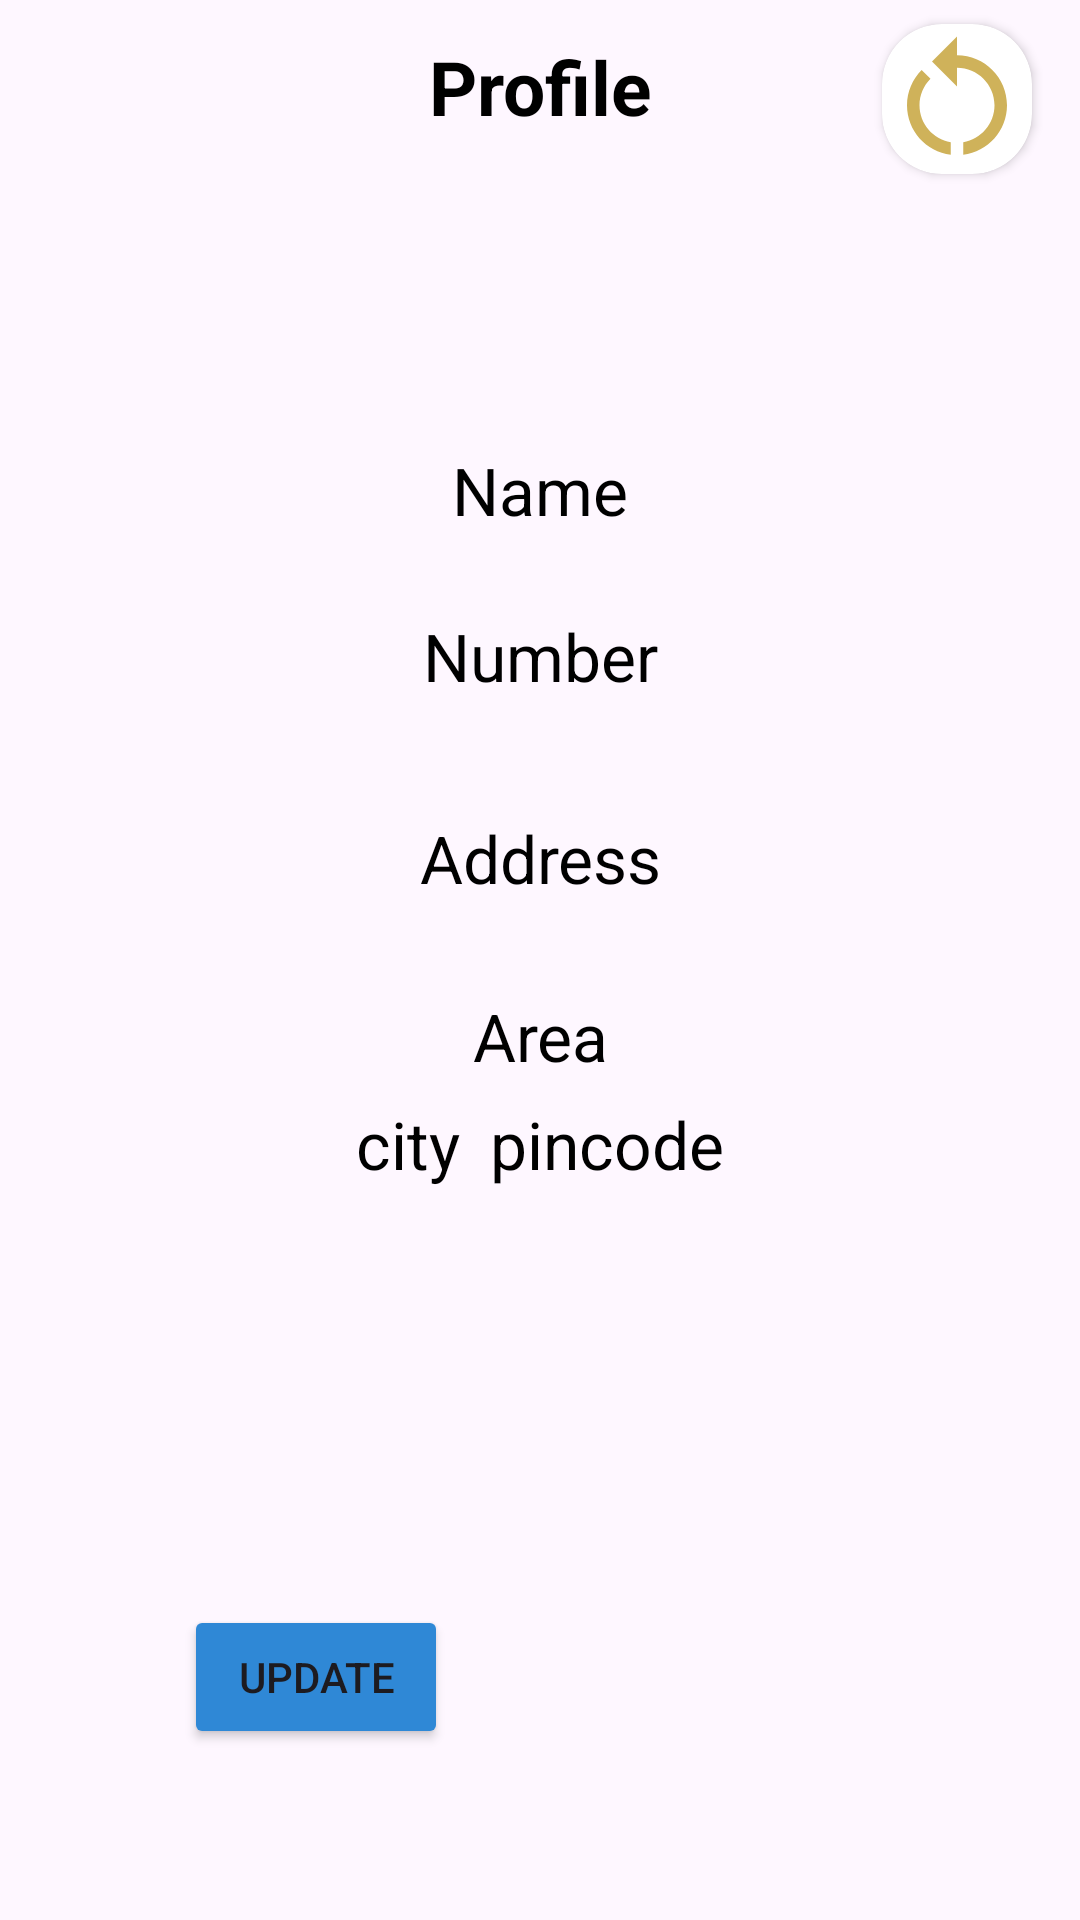

Named icons in this screenshot (1080×1920) and their bounding boxes, (x1, y1, x2, y2):
restart: (882, 24, 1032, 174)
